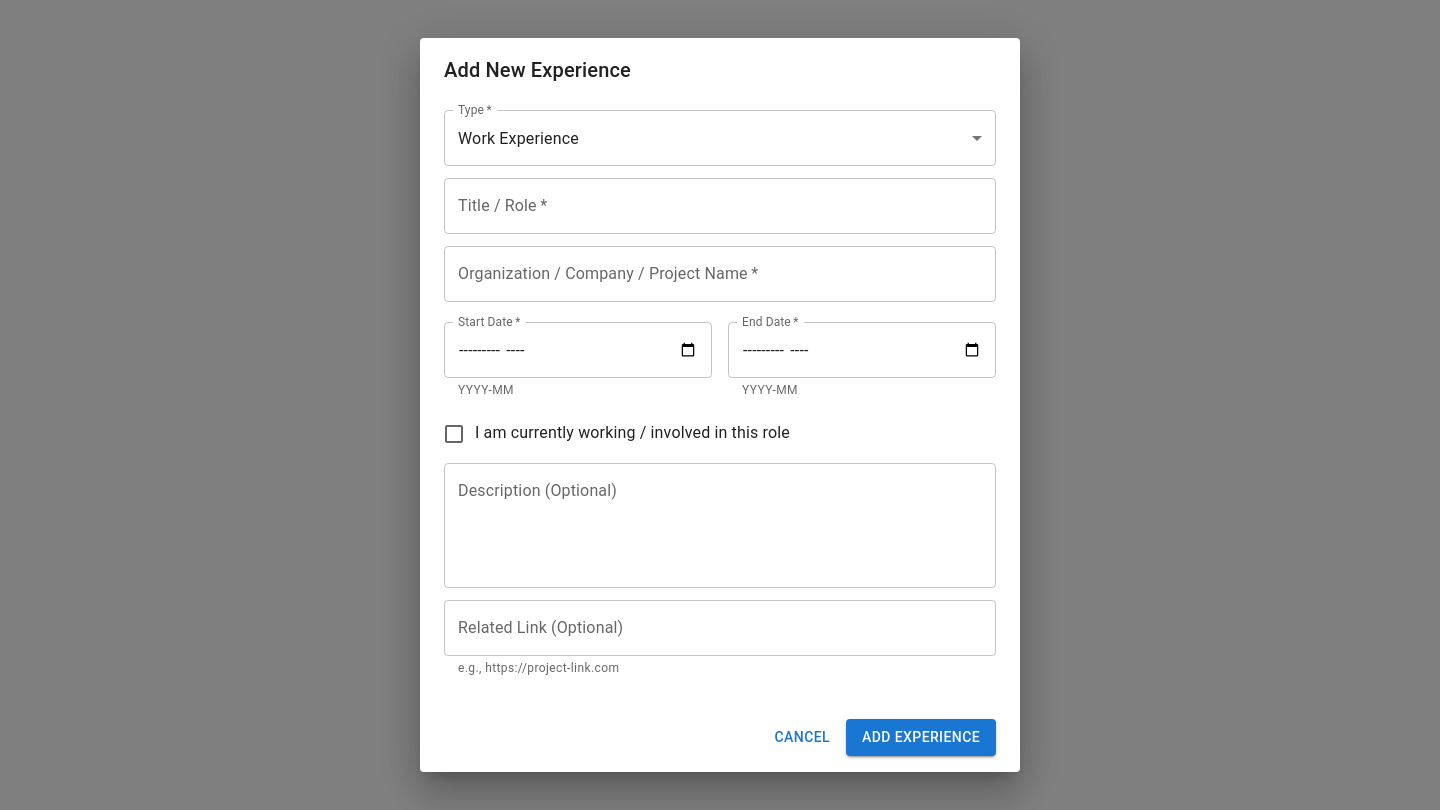
Test: ExperienceForm Component › disables end date field when isCurrent is checked
Click the checkbox labelled "I am currently working / involved in this role": (616, 434) [442, 422, 790, 446]
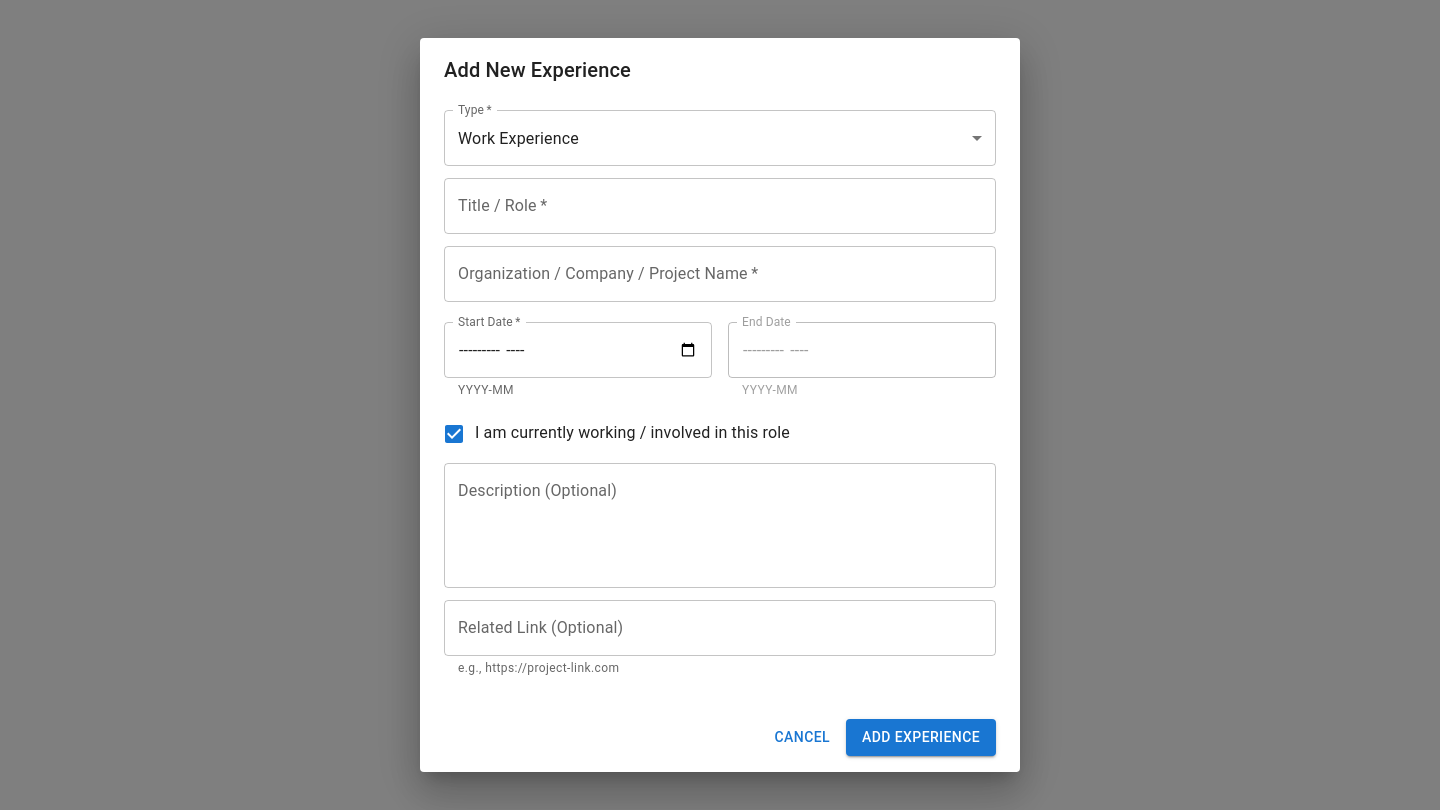
Check: the field labelled "End Date" is disabled, box [728, 322, 996, 378]
